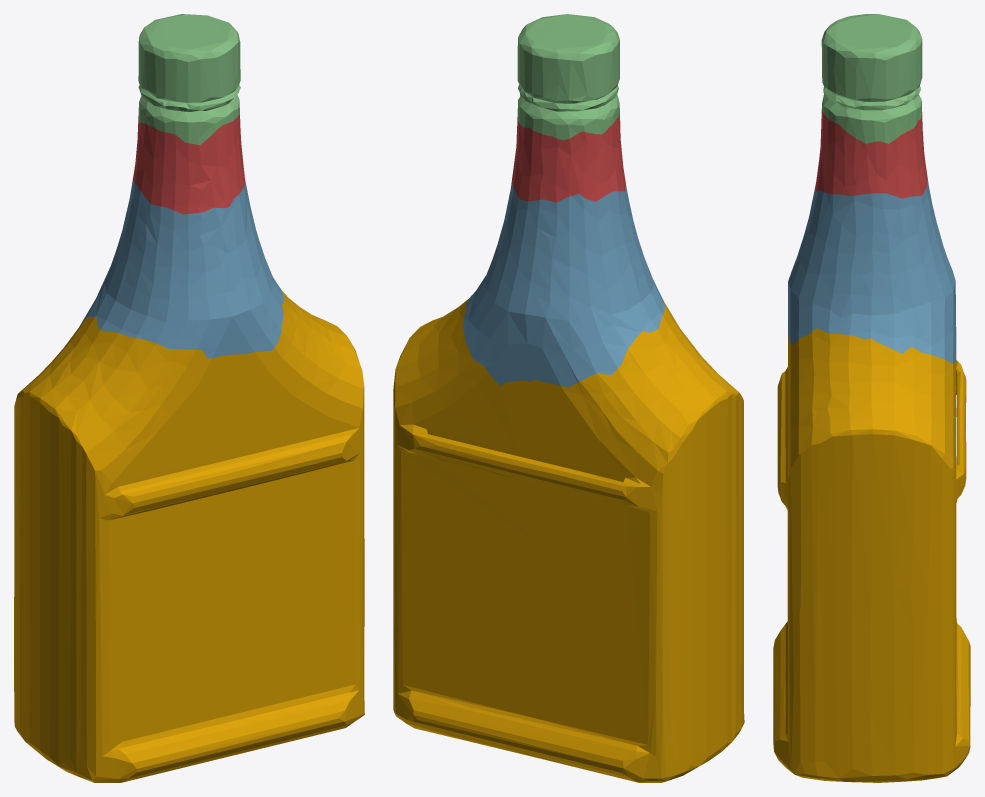
File: fractured_74_4pcs.glb
3 renders of one model, left to right at view 1: azimuth 30°, elevation 25°; view 2: azimuth 150°, elevation 25°; view 3: azimuth 270°, elevation 25°, orthographic.
Visible parts, largest first — view 1: piece_0.obj, piece_2.obj, piece_3.obj, piece_1.obj; view 2: piece_0.obj, piece_2.obj, piece_3.obj, piece_1.obj; view 3: piece_0.obj, piece_2.obj, piece_3.obj, piece_1.obj.
Part boxes in pixels (x1=…): piece_0.obj: x1=14, y1=290, x2=364, y2=782; piece_2.obj: x1=81, y1=179, x2=284, y2=358; piece_3.obj: x1=138, y1=14, x2=240, y2=145; piece_1.obj: x1=132, y1=115, x2=244, y2=214; piece_0.obj: x1=393, y1=299, x2=744, y2=782; piece_2.obj: x1=463, y1=181, x2=665, y2=387; piece_3.obj: x1=517, y1=14, x2=619, y2=140; piece_1.obj: x1=512, y1=113, x2=625, y2=202; piece_0.obj: x1=773, y1=327, x2=970, y2=782; piece_2.obj: x1=788, y1=178, x2=956, y2=363; piece_3.obj: x1=821, y1=14, x2=922, y2=143; piece_1.obj: x1=815, y1=111, x2=927, y2=198.
Bounding box in the file's own units: 0.4503 × 1 × 0.2607.
